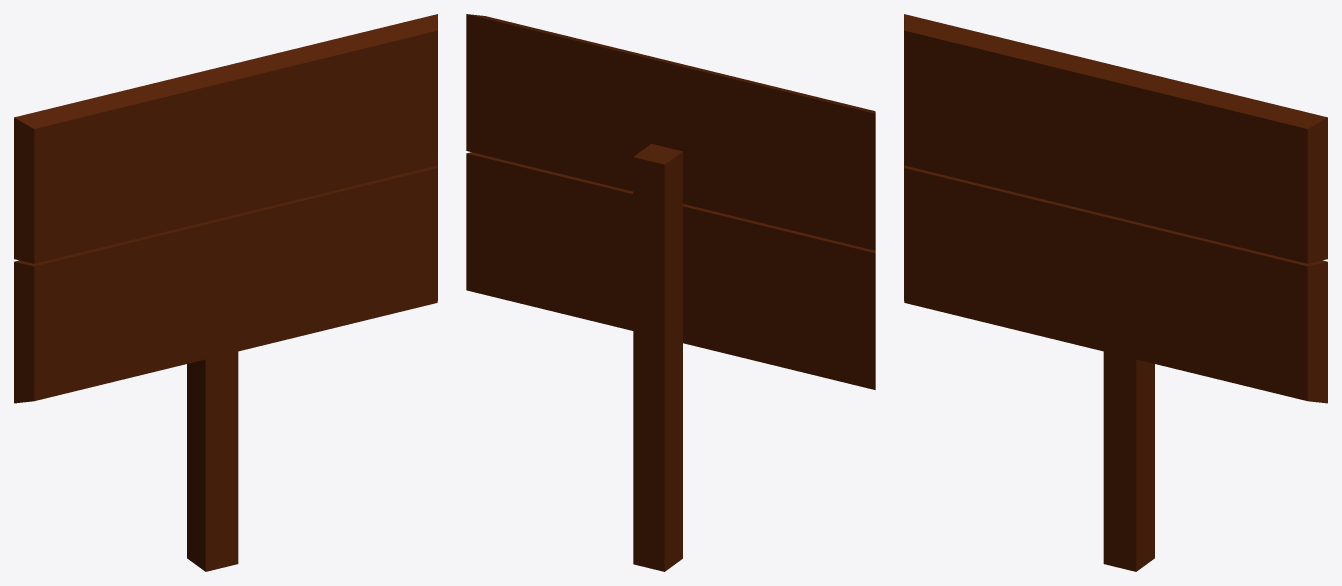
The model's file is cartell.glb.
3 renders of one model, left to right at view 1: azimuth 30°, elevation 25°; view 2: azimuth 150°, elevation 25°; view 3: azimuth 330°, elevation 25°, orthographic. The views are drawn at different scales.
Parts seen in each view (by area): view 1: Cartell; view 2: Cartell; view 3: Cartell.
Part boxes in pixels (bbox=[...]): Cartell: bbox=[14, 14, 437, 571]; Cartell: bbox=[466, 14, 875, 571]; Cartell: bbox=[904, 14, 1327, 571].
Size of the model in its own units: 2.74 by 3.12 by 0.3656.
